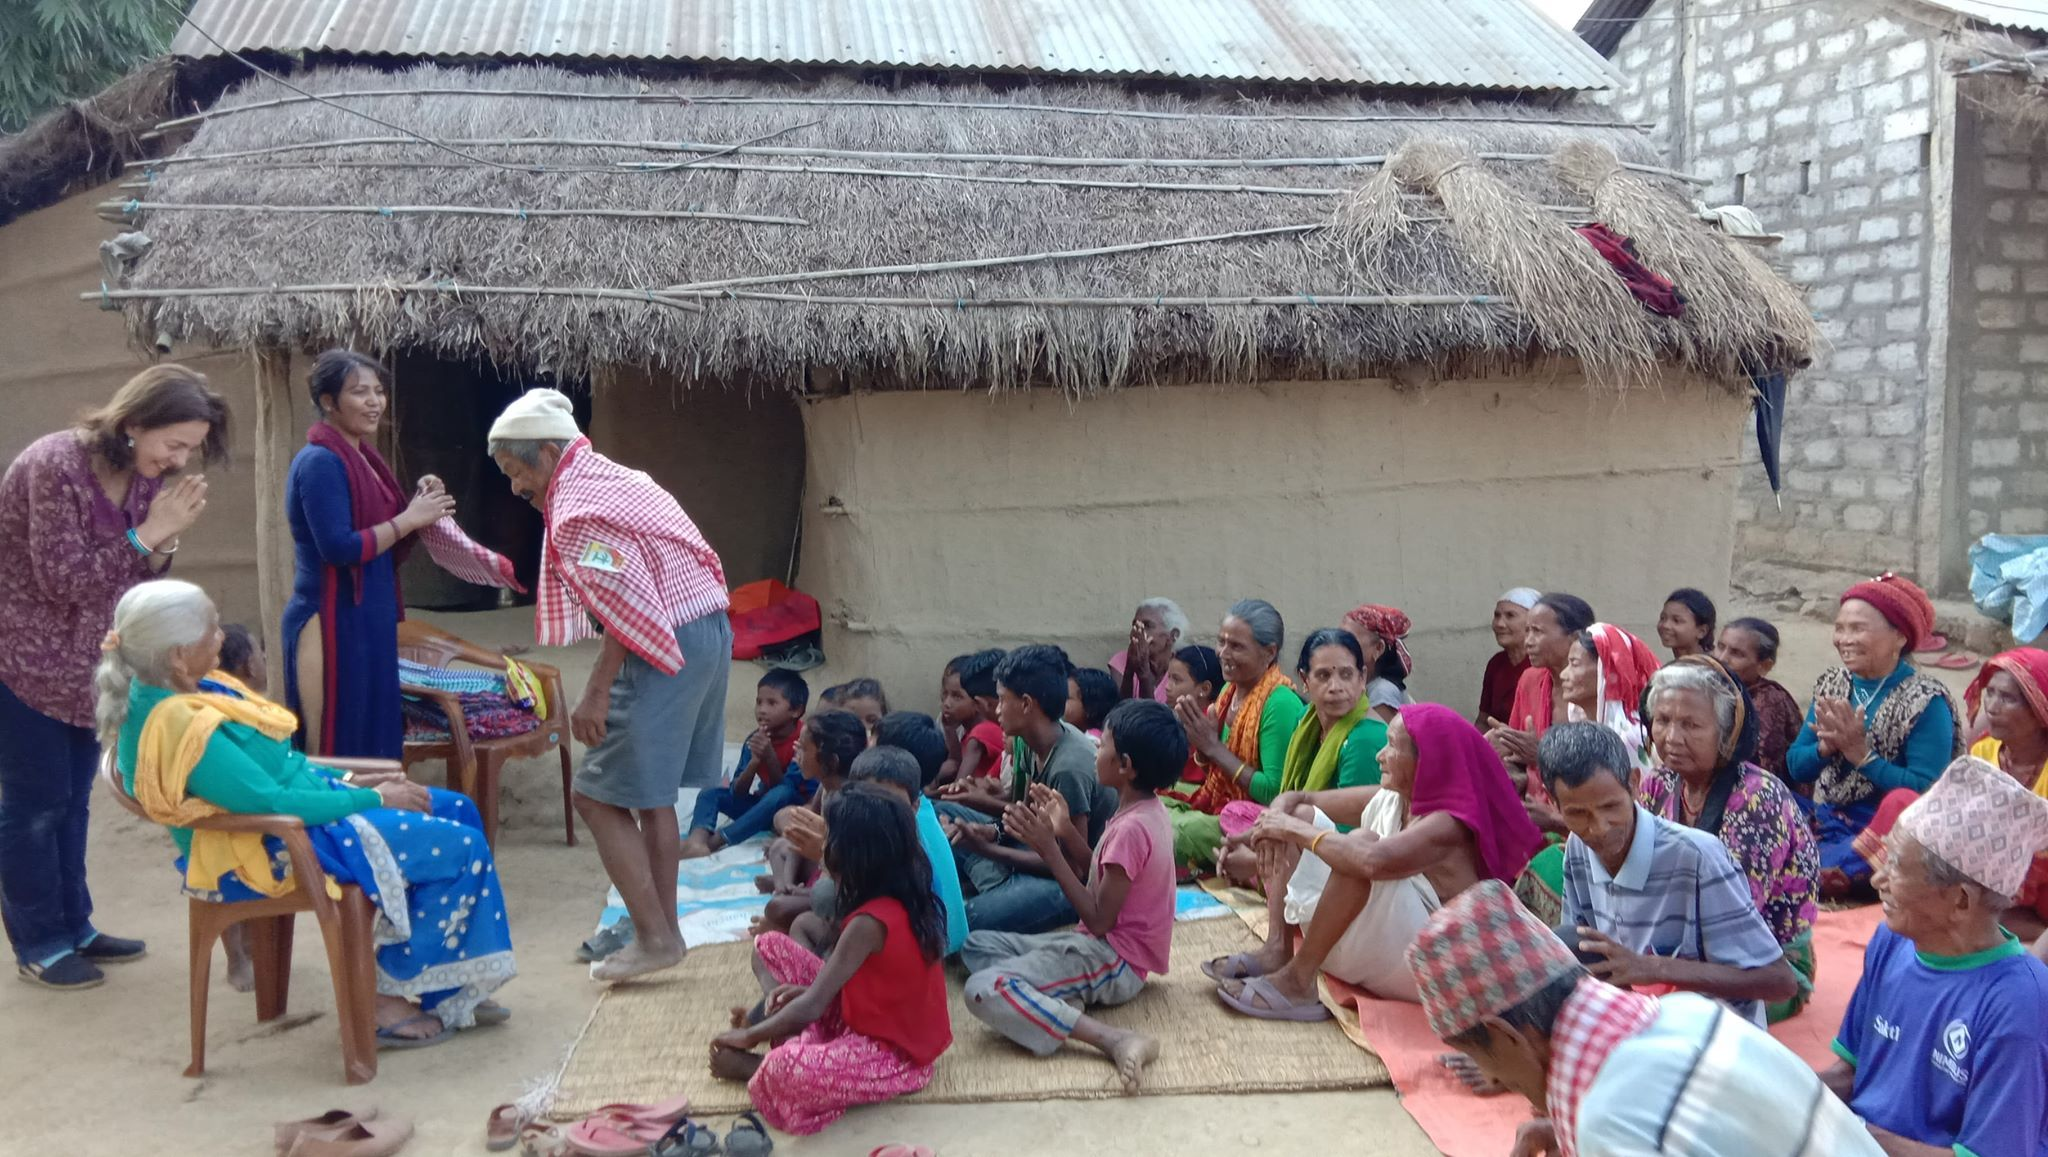human: (49, 574, 556, 1072), (449, 372, 773, 1008), (1, 337, 237, 1021), (1371, 864, 1907, 1157), (1199, 693, 1563, 1036), (952, 678, 1229, 1093), (247, 338, 516, 765), (1500, 709, 1812, 1029), (695, 781, 965, 1138), (1817, 742, 2048, 1157), (1623, 646, 1848, 973), (932, 634, 1133, 946), (1777, 573, 1953, 900), (1160, 592, 1317, 845), (1252, 618, 1431, 806), (1457, 580, 1572, 710), (1552, 620, 1644, 712), (1505, 600, 1611, 674)
